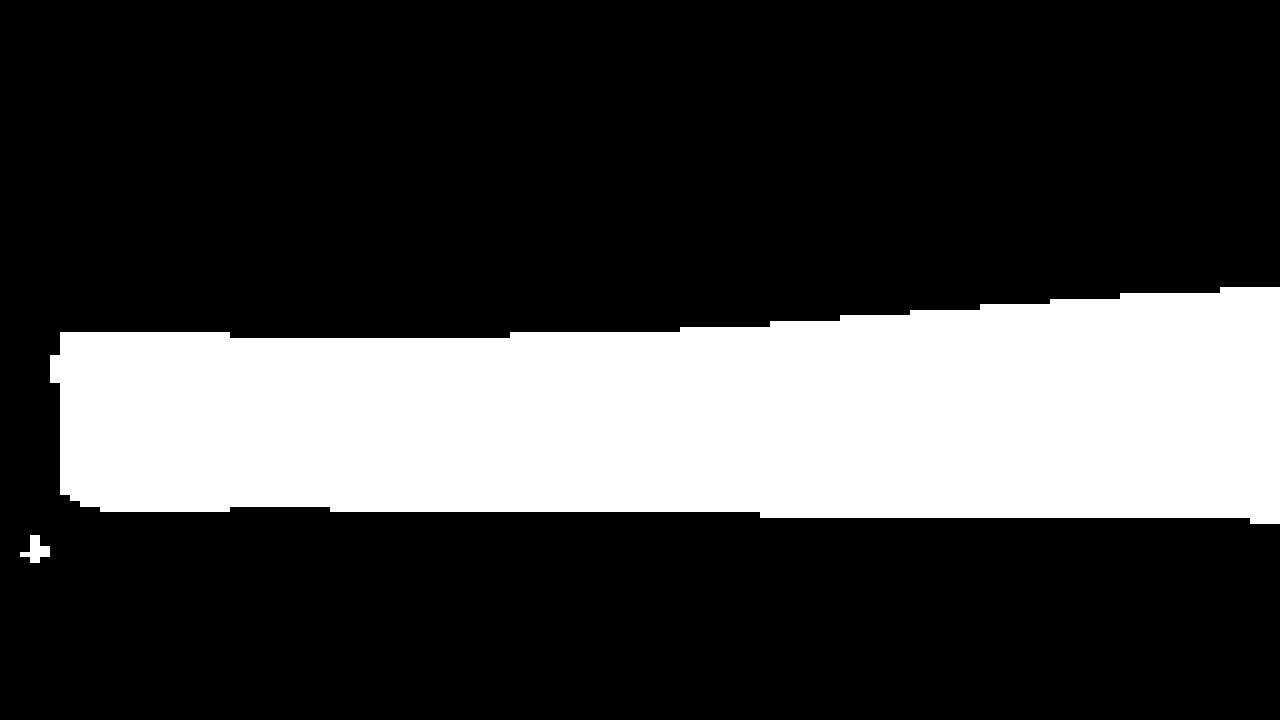Turbine: (53, 292, 1275, 542)
